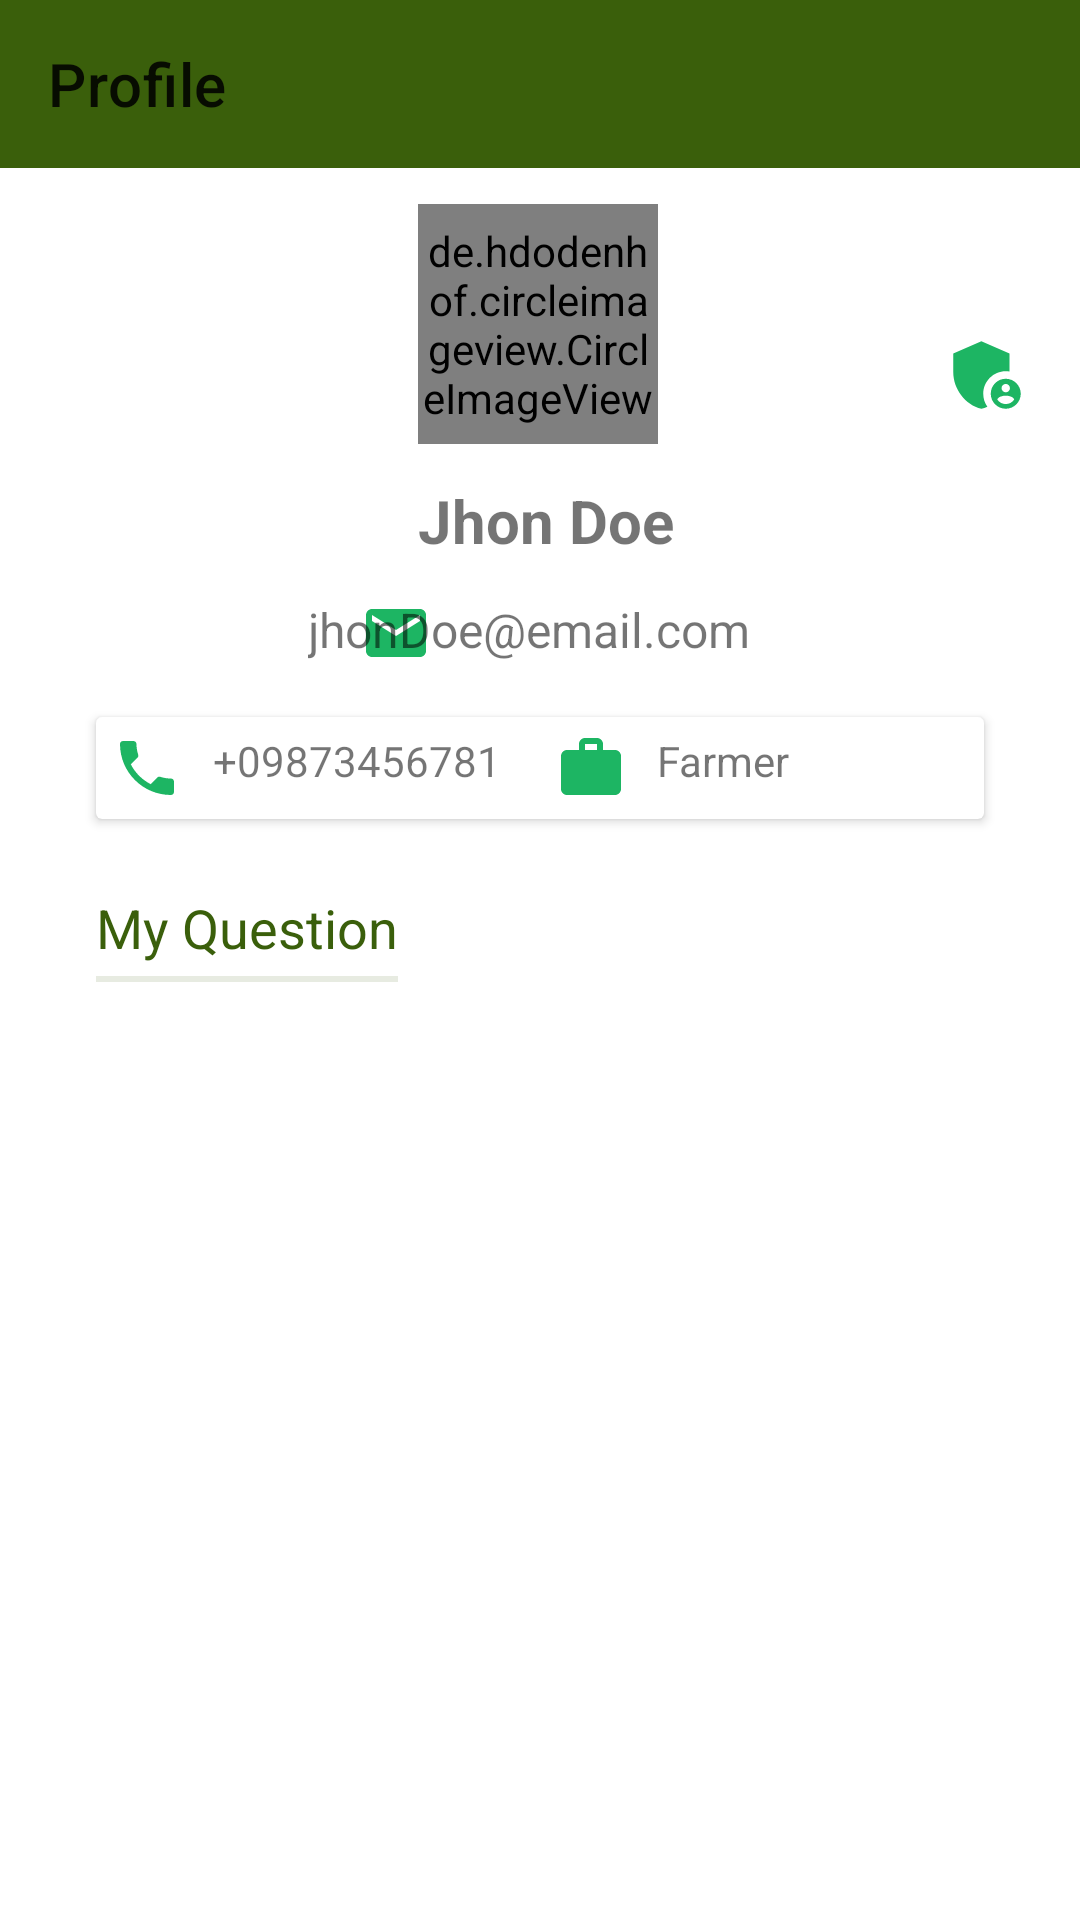

Named icons in this screenshot (1080px×1920px) and their bounding boxes, bbox=[x1, y1, x2, y2]:
admin panel settings: bbox=[953, 341, 1021, 409]
phone: bbox=[120, 741, 174, 795]
work: bbox=[561, 738, 621, 795]
